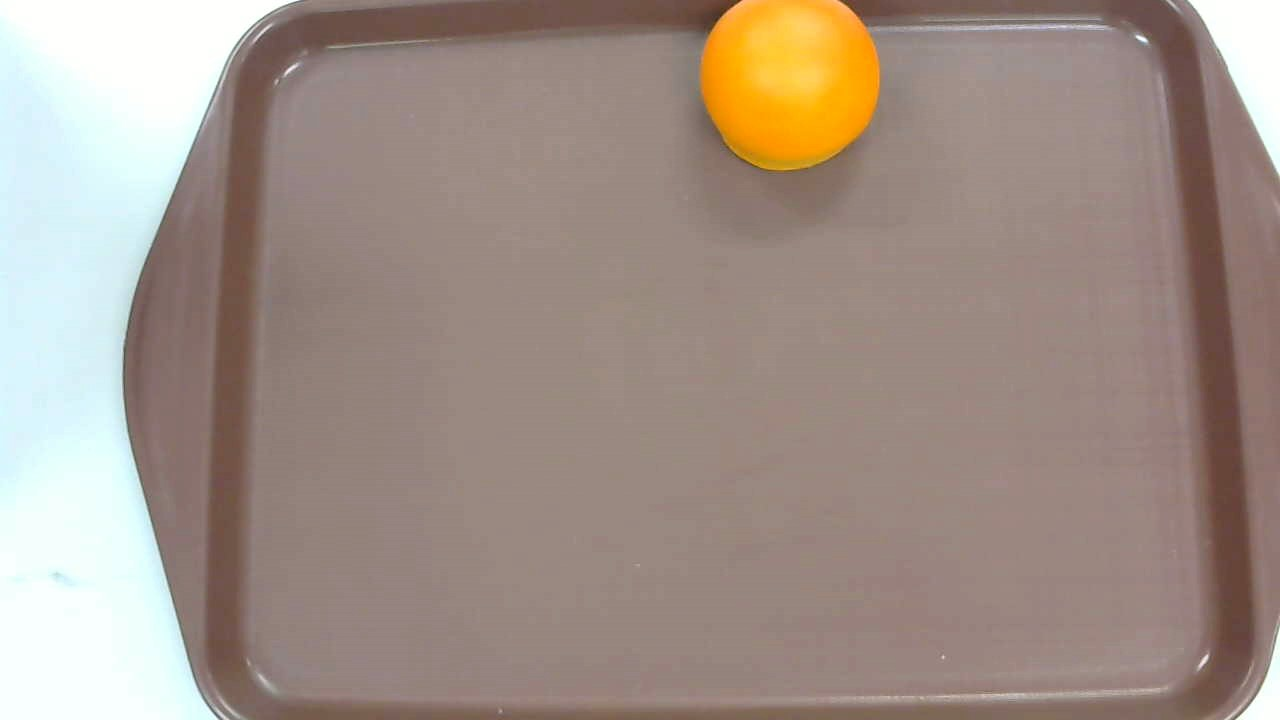bun: (699, 1, 881, 172)
